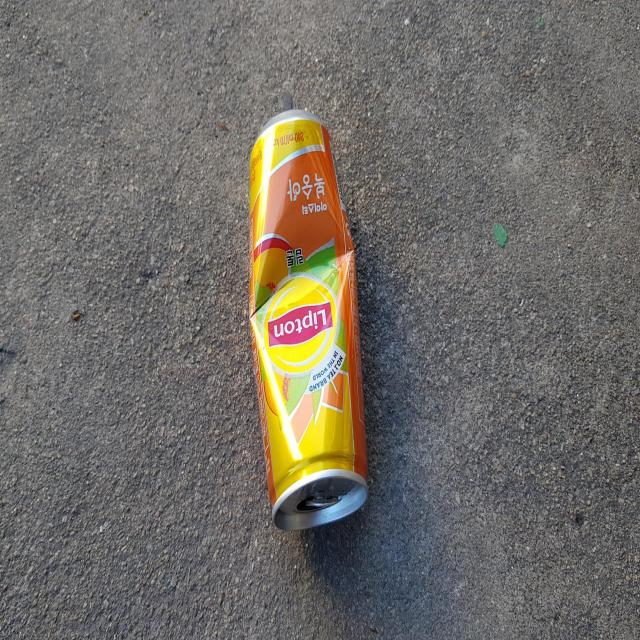can: (249, 108, 368, 530)
